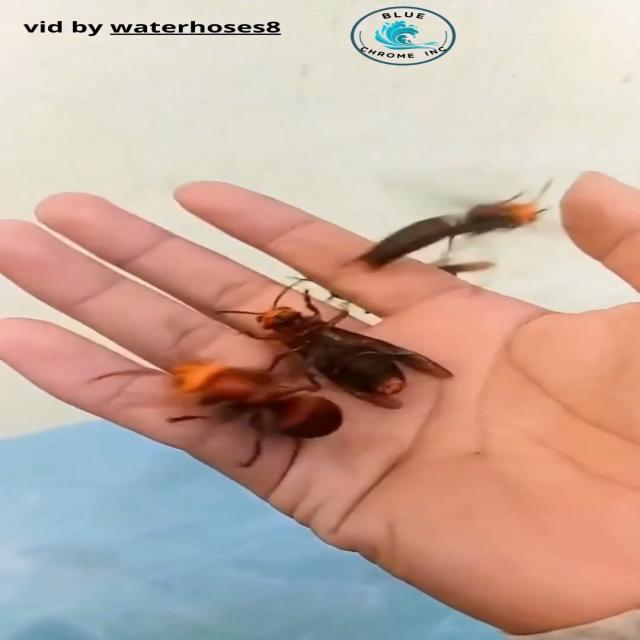Hornets: (91, 342, 348, 469), (215, 281, 455, 410), (339, 178, 552, 277)
